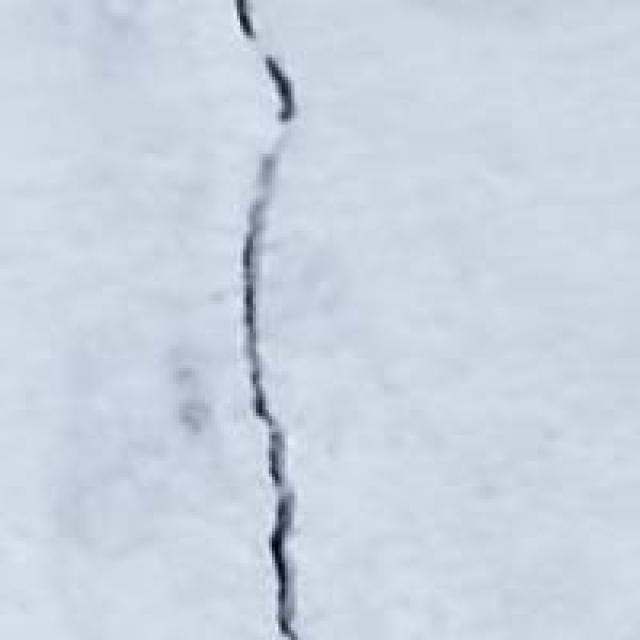Crack: (176, 0, 394, 637)
